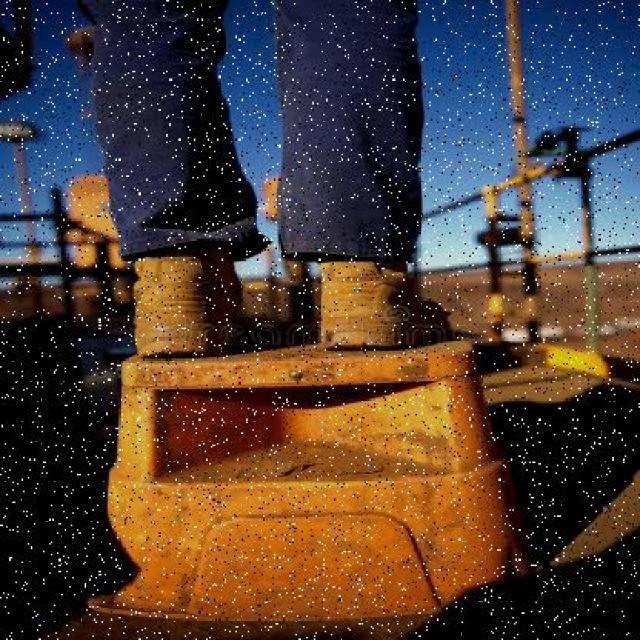shoes: (127, 251, 250, 354), (322, 262, 449, 348)
